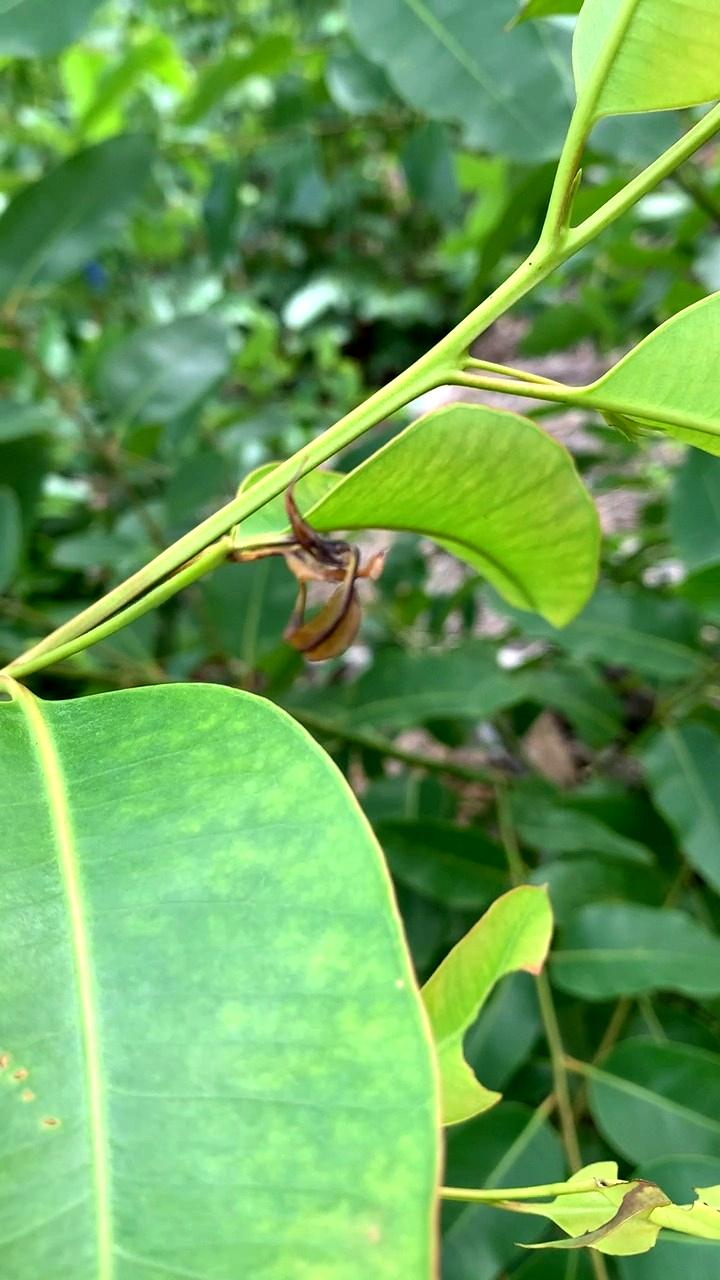Helopeltis-Withered Sprout: (241, 478, 408, 667)
